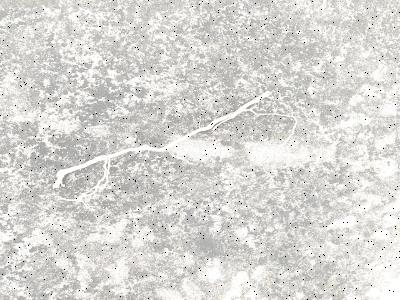Root: (53, 91, 297, 192), (61, 192, 95, 201)
